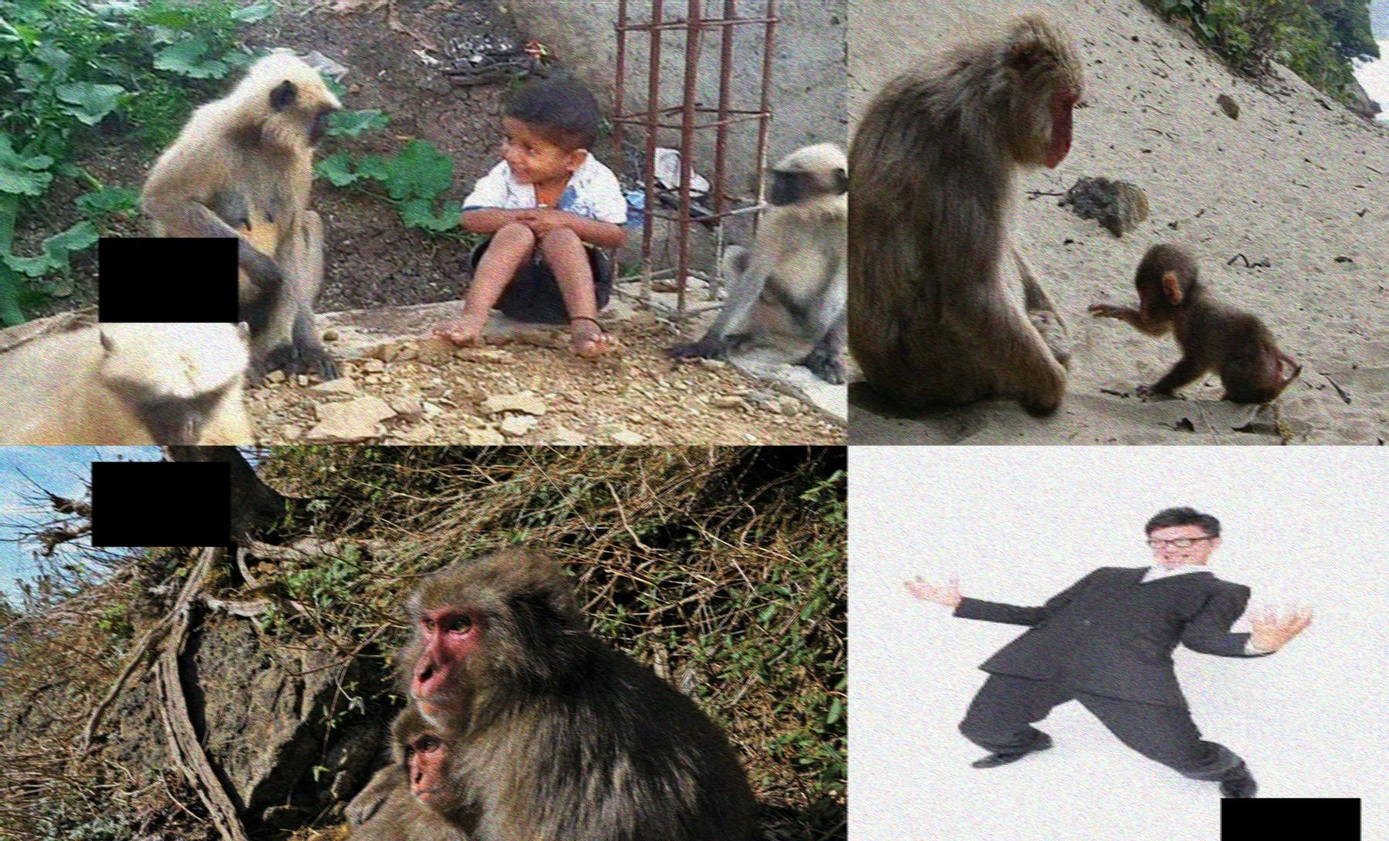Macaca fuscata: (345, 549, 748, 841), (847, 19, 1084, 420), (146, 58, 349, 379), (675, 143, 847, 382), (1089, 241, 1301, 413), (0, 302, 254, 441), (345, 710, 458, 841)
human: (903, 506, 1284, 808), (443, 72, 624, 355)
